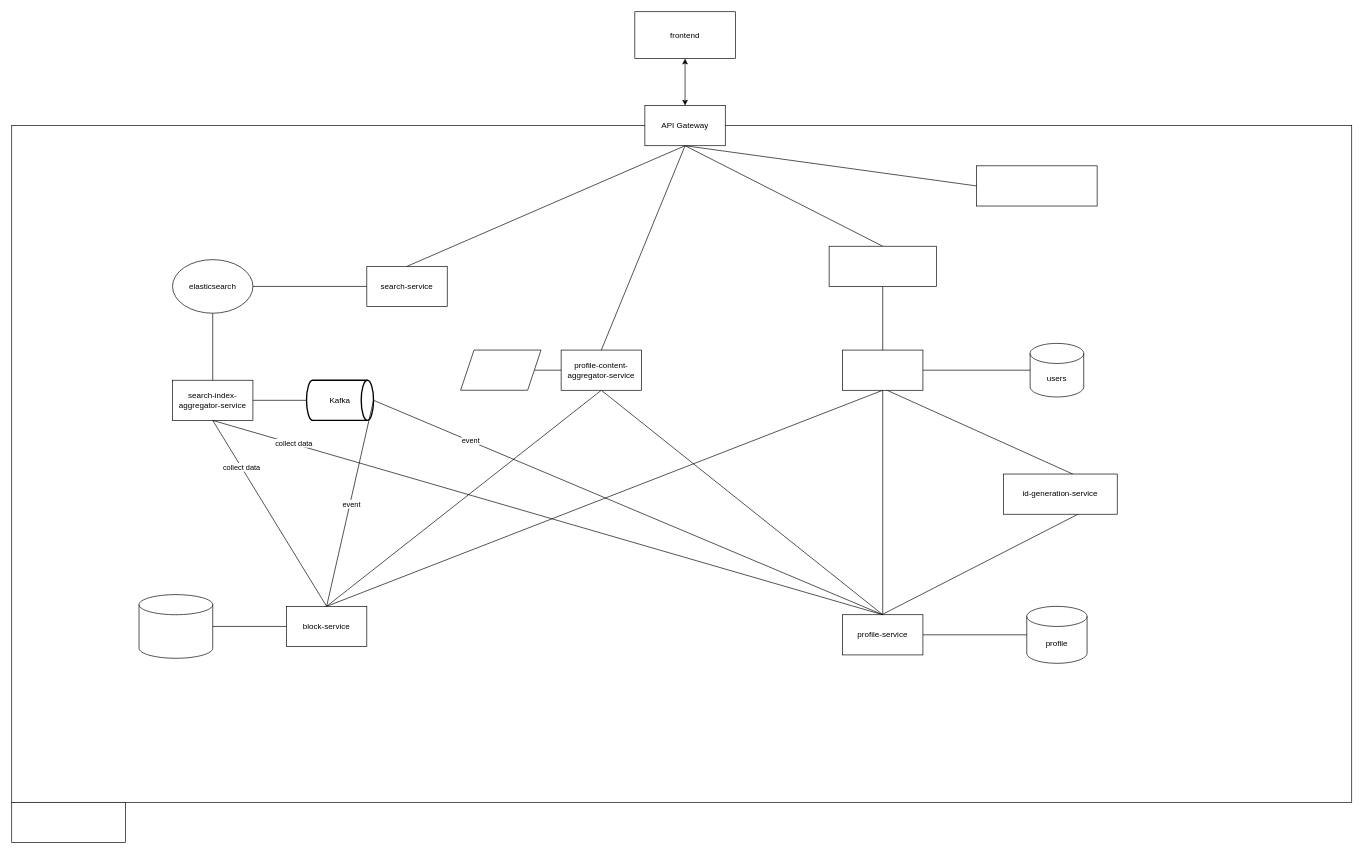
The diagram is 1363 pixels wide and 854 high, and some of its shapes have lost their labels. Each missing label, with the centre of its shape:
"authentication-service" belongs at pixel 882 266.
"MongoDB content" belongs at pixel 175 626.
"qr-code-generation-service" belongs at pixel 1036 185.
"redis cache" belongs at pixel 500 369.
"service-registry" belongs at pixel 68 822.
"user-service" belongs at pixel 882 369.
